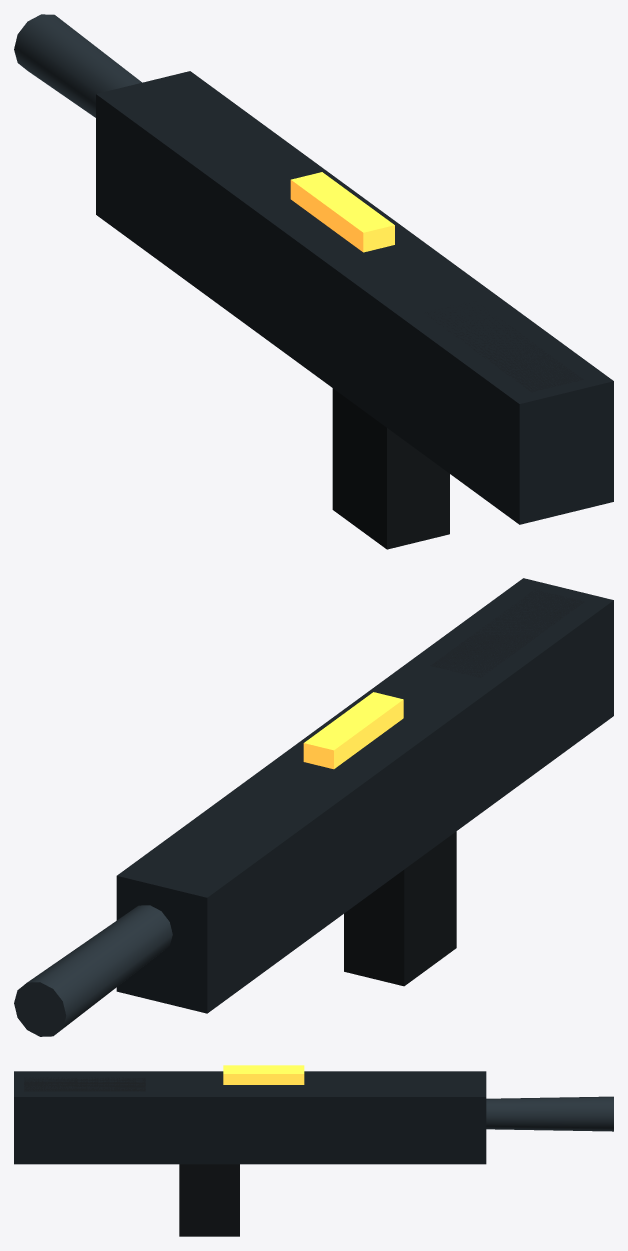
Rendered from rifle.glb.
3 renders of one model, top to bottom at view 1: azimuth 30°, elevation 25°; view 2: azimuth 150°, elevation 25°; view 3: azimuth 270°, elevation 25°, orthographic. The views are drawn at different scales.
Size of the model in its own units: 0.09 by 0.259 by 0.889.
